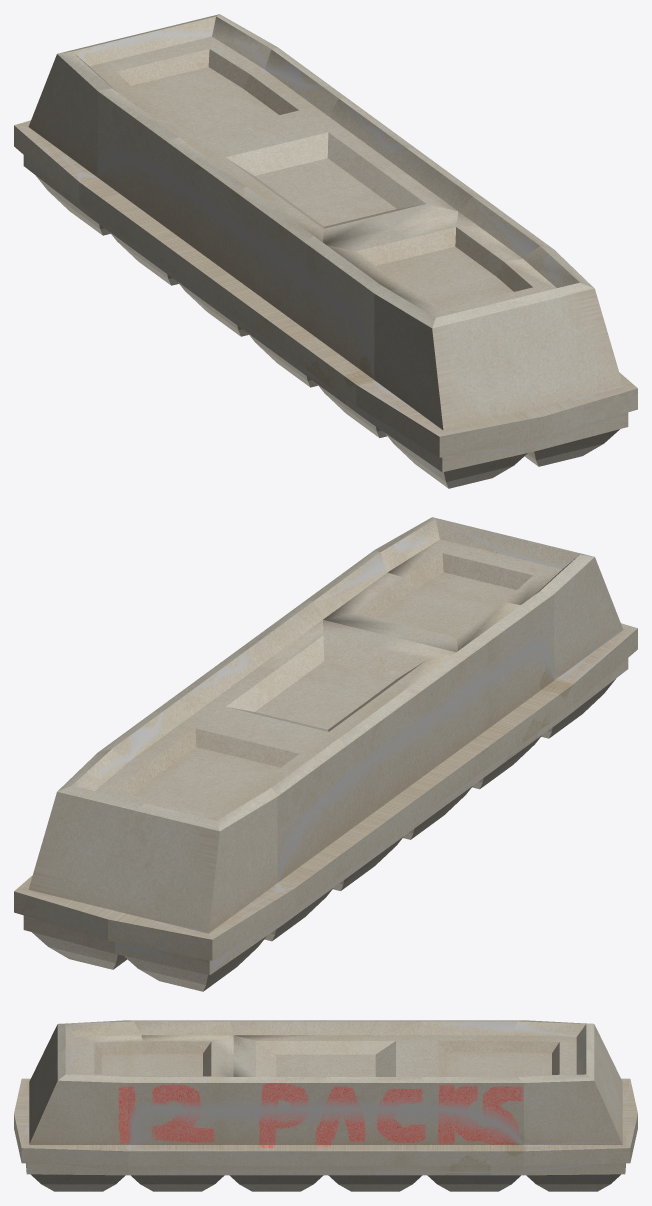
Rendered from EggCarton.fbx.
The picture shows the model from 3 angles, top to bottom: view 1: azimuth 30°, elevation 25°; view 2: azimuth 150°, elevation 25°; view 3: azimuth 270°, elevation 25°; orthographic projection. The views are drawn at different scales.
Parts seen in each view (by area): view 1: Egg_carton; view 2: Egg_carton; view 3: Egg_carton.
Part boxes in pixels (left/top/right/bottom): Egg_carton: left=14, top=14, right=637, bottom=488; Egg_carton: left=14, top=517, right=637, bottom=991; Egg_carton: left=14, top=1020, right=637, bottom=1191.
Bounding box in the file's own units: 120 × 88.45 × 420.
Materials: 1 (1 with a texture image).
